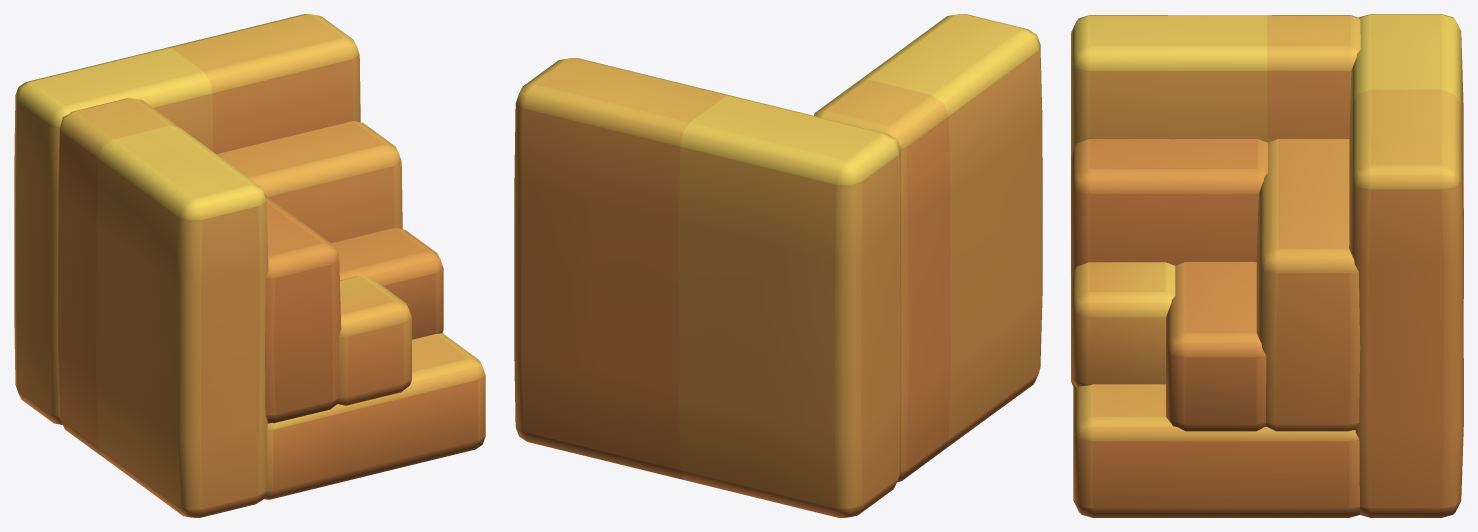
The model's file is stair_corner_conc.fbx.
3 views of the same model, side by side, from view 1: azimuth 30°, elevation 25°; view 2: azimuth 150°, elevation 25°; view 3: azimuth 270°, elevation 25° (orthographic). The views are drawn at different scales.
Parts seen in each view (by area): view 1: stair_corner_conc; view 2: stair_corner_conc; view 3: stair_corner_conc.
Boxes of the visible parts, bbox=[...] form: stair_corner_conc: bbox=[14, 14, 485, 517]; stair_corner_conc: bbox=[514, 14, 1042, 517]; stair_corner_conc: bbox=[1071, 14, 1463, 517].
Bounding box in the file's own units: 106 × 105 × 106.
